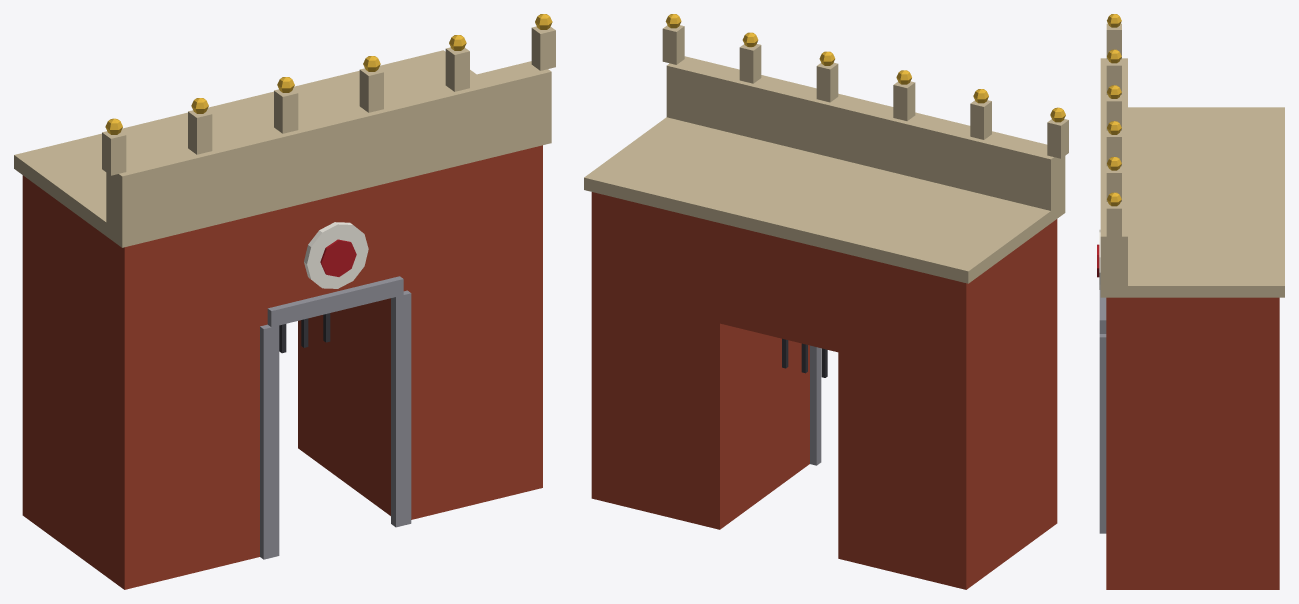
The model's file is brama.glb.
3 renders of one model, left to right at view 1: azimuth 30°, elevation 25°; view 2: azimuth 150°, elevation 25°; view 3: azimuth 270°, elevation 25°, orthographic. The views are drawn at different scales.
Parts seen in each view (by area): view 1: brama; view 2: brama; view 3: brama.
Boxes of the visible parts, x1,y1,x2,y2 form: brama: [14, 14, 555, 589]; brama: [584, 14, 1068, 589]; brama: [1097, 14, 1284, 589].
Bounding box in the file's own units: 4.04 × 4.07 × 1.74.
